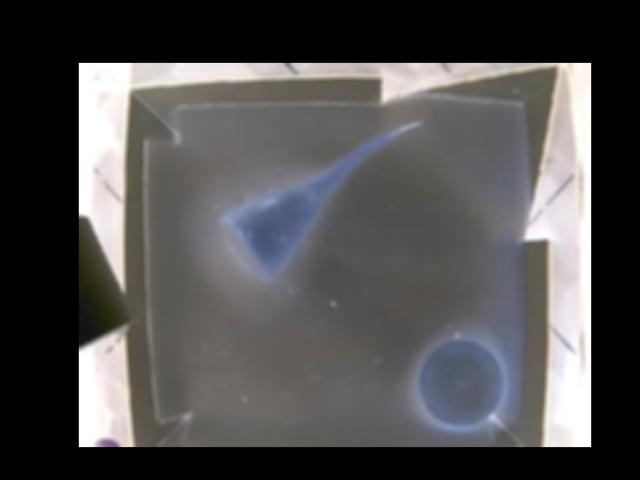Mooli: (222, 172, 329, 279), (416, 334, 505, 427)
